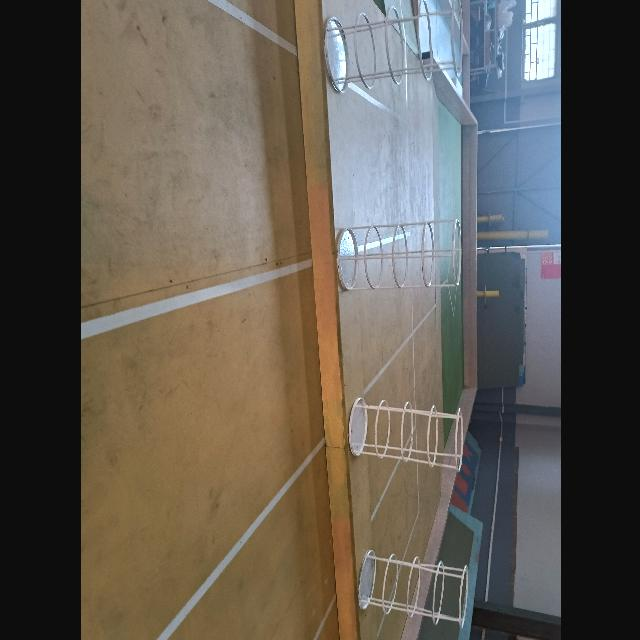S: (322, 0, 464, 94), (333, 217, 463, 292), (356, 548, 469, 630), (346, 395, 464, 473)
